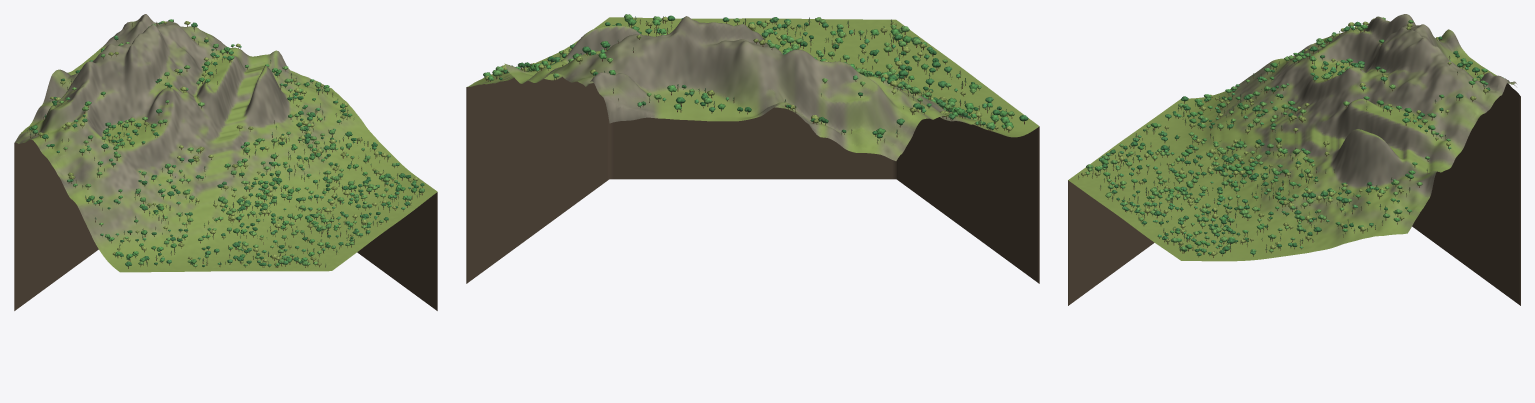
3 views of the same model, side by side, from view 1: azimuth 30°, elevation 25°; view 2: azimuth 150°, elevation 25°; view 3: azimuth 270°, elevation 25° (orthographic). The views are drawn at different scales.
Visible parts, largest first — view 1: terrain, hex_side_cut, broadleaf_canopy, trunks, conifer_canopy; view 2: hex_side_cut, terrain, broadleaf_canopy, trunks; view 3: terrain, hex_side_cut, broadleaf_canopy, trunks, conifer_canopy.
Boxes of the visible parts, bbox=[...] form: terrain: bbox=[14, 14, 437, 272]; hex_side_cut: bbox=[14, 139, 437, 310]; broadleaf_canopy: bbox=[29, 19, 424, 266]; trunks: bbox=[27, 20, 422, 268]; conifer_canopy: bbox=[27, 19, 419, 266]; hex_side_cut: bbox=[466, 77, 1039, 283]; terrain: bbox=[466, 16, 1039, 160]; broadleaf_canopy: bbox=[483, 14, 1028, 138]; trunks: bbox=[486, 17, 1024, 143]; terrain: bbox=[1068, 14, 1516, 261]; hex_side_cut: bbox=[1068, 83, 1520, 305]; broadleaf_canopy: bbox=[1081, 17, 1503, 255]; trunks: bbox=[1078, 23, 1488, 257]; conifer_canopy: bbox=[1078, 31, 1508, 249].
Bounding box in the file's own units: 4330 × 3192 × 5000.
6 materials, 1 textured.
